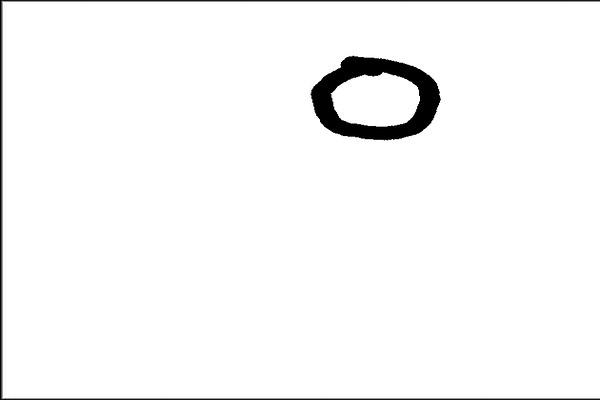O: (293, 49, 442, 142)
